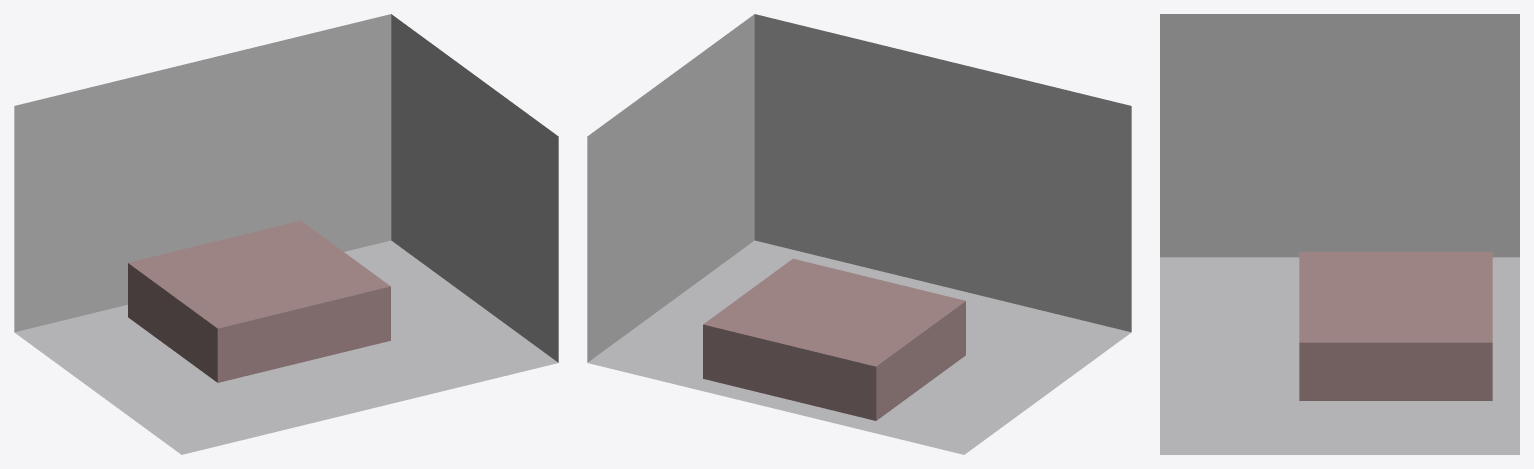
Rendered from optimised_layout.glb.
3 views of the same model, side by side, from view 1: azimuth 30°, elevation 25°; view 2: azimuth 150°, elevation 25°; view 3: azimuth 270°, elevation 25° (orthographic). The views are drawn at different scales.
Parts seen in each view (by area): view 1: room, bed; view 2: room, bed; view 3: room, bed.
Boxes of the visible parts, x1,y1,x2,y2 form: room: (14,14,558,454); bed: (128,220,390,382); room: (587,14,1131,454); bed: (703,258,965,420); room: (1160,14,1519,454); bed: (1299,251,1492,400).
Size of the model in its own units: 4.36 by 2.5 by 3.35.
